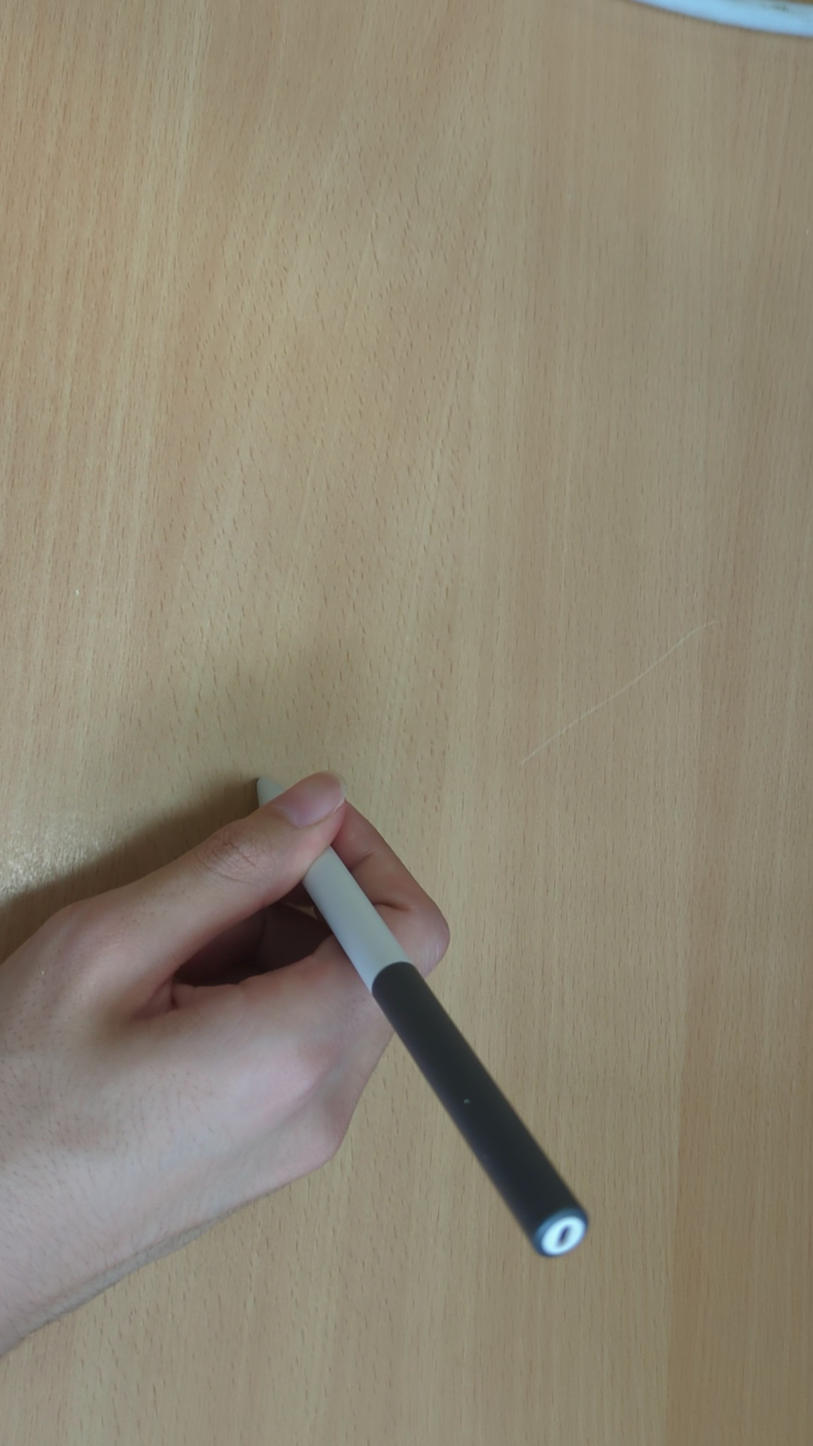pen: (251, 770, 592, 1258)
tip: (245, 767, 273, 792)
